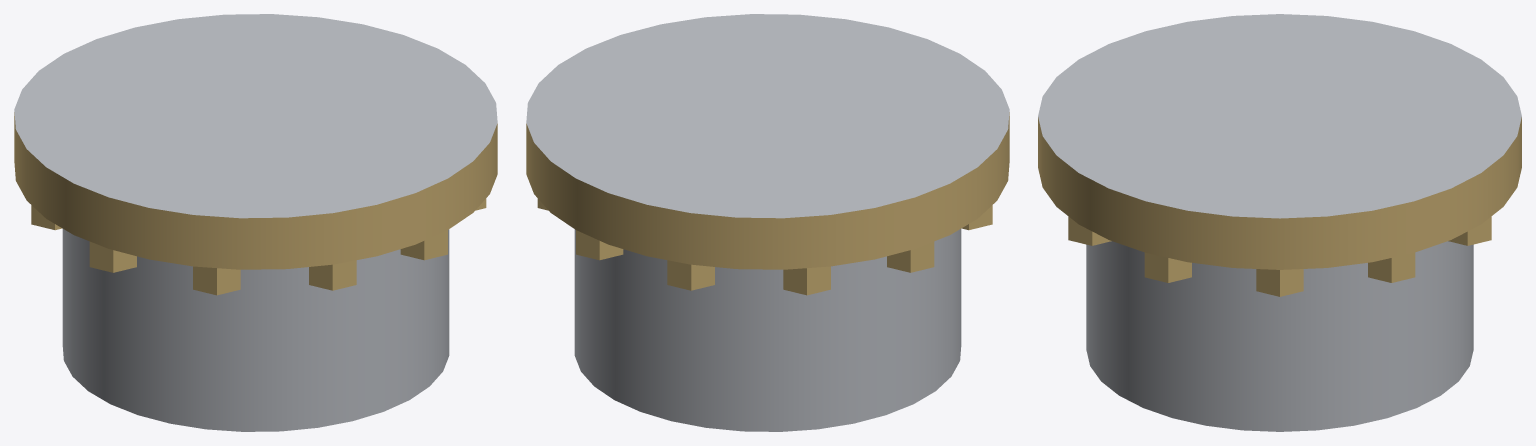
The picture shows the model from 3 angles, left to right: view 1: azimuth 30°, elevation 25°; view 2: azimuth 150°, elevation 25°; view 3: azimuth 270°, elevation 25°; orthographic projection.
Visible parts, largest first — view 1: ratchet_11-80; view 2: ratchet_11-80; view 3: ratchet_11-80.
Part boxes in pixels (<box>): ratchet_11-80: <box>14,14,497,431</box>; ratchet_11-80: <box>526,14,1009,431</box>; ratchet_11-80: <box>1038,14,1521,431</box>.
Bounding box in the file's own units: 15 × 8 × 15.
